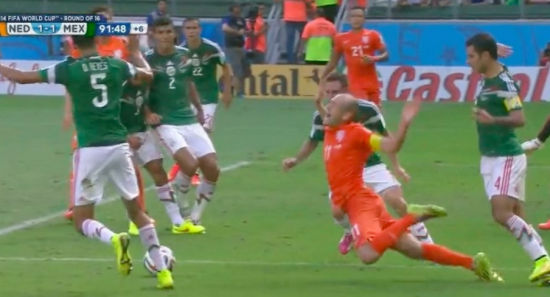10+: (4, 1, 548, 290)
down: (289, 77, 504, 283)
